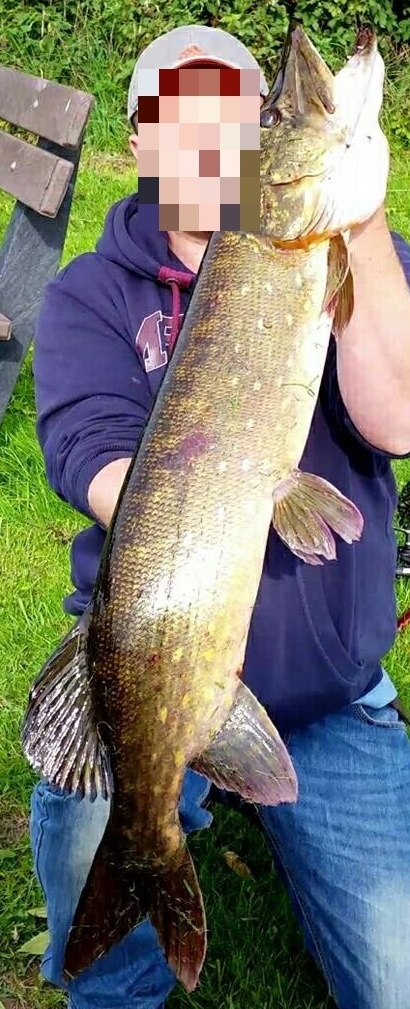Esox lucius: (20, 20, 390, 989)
